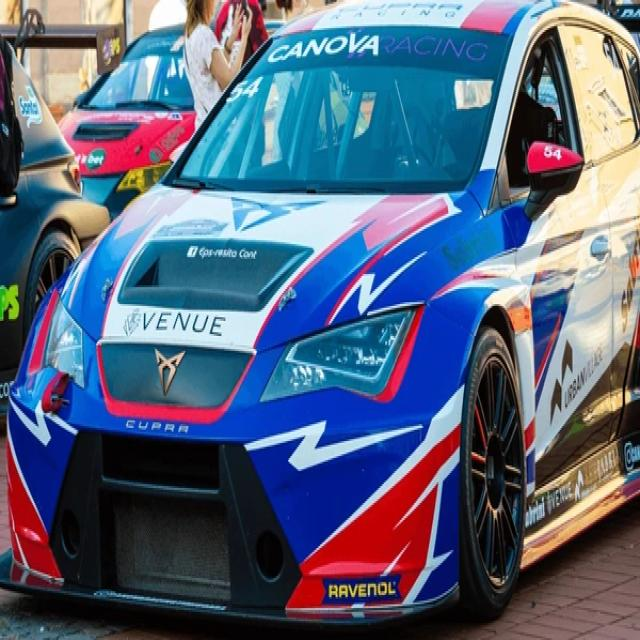cupra: (152, 339, 185, 399)
